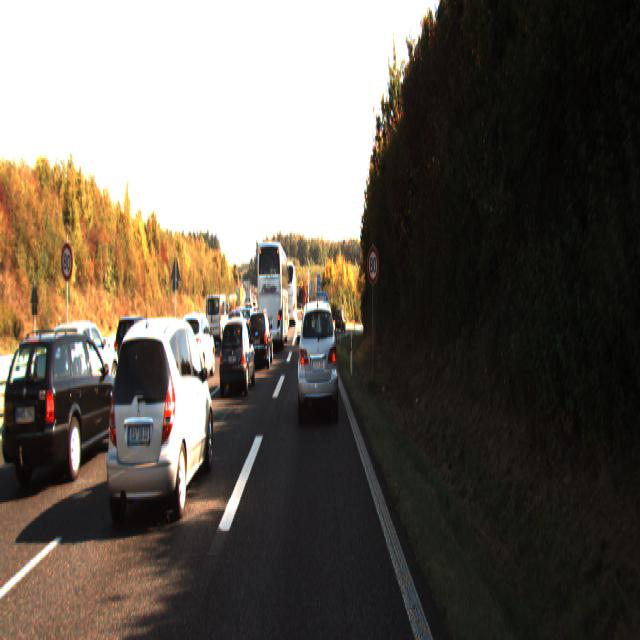Car: (103, 312, 215, 531), (0, 325, 126, 493), (37, 315, 121, 420), (296, 297, 339, 423), (256, 237, 289, 350), (113, 311, 159, 384), (218, 314, 255, 396), (175, 309, 215, 384), (246, 305, 273, 366), (205, 292, 228, 346), (283, 261, 297, 326), (335, 307, 346, 333)
